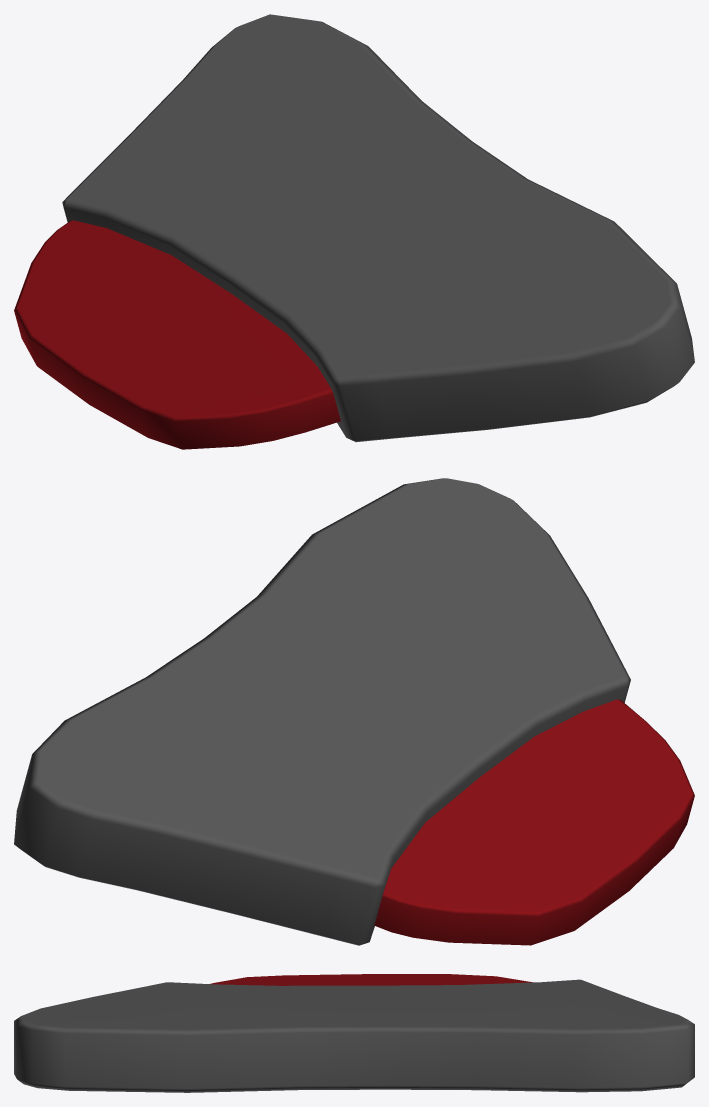
File: Ship_enemy_09_Wing_R.fbx
3 renders of one model, top to bottom at view 1: azimuth 30°, elevation 25°; view 2: azimuth 150°, elevation 25°; view 3: azimuth 270°, elevation 25°, orthographic. The views are drawn at different scales.
Parts seen in each view (by area): view 1: Ship_enemy_09_Wing_R; view 2: Ship_enemy_09_Wing_R; view 3: Ship_enemy_09_Wing_R.
Part boxes in pixels (bbox=[...]): Ship_enemy_09_Wing_R: bbox=[14, 14, 694, 449]; Ship_enemy_09_Wing_R: bbox=[14, 478, 694, 945]; Ship_enemy_09_Wing_R: bbox=[14, 974, 694, 1092].
Size of the model in its own units: 140 by 51.19 by 233.
